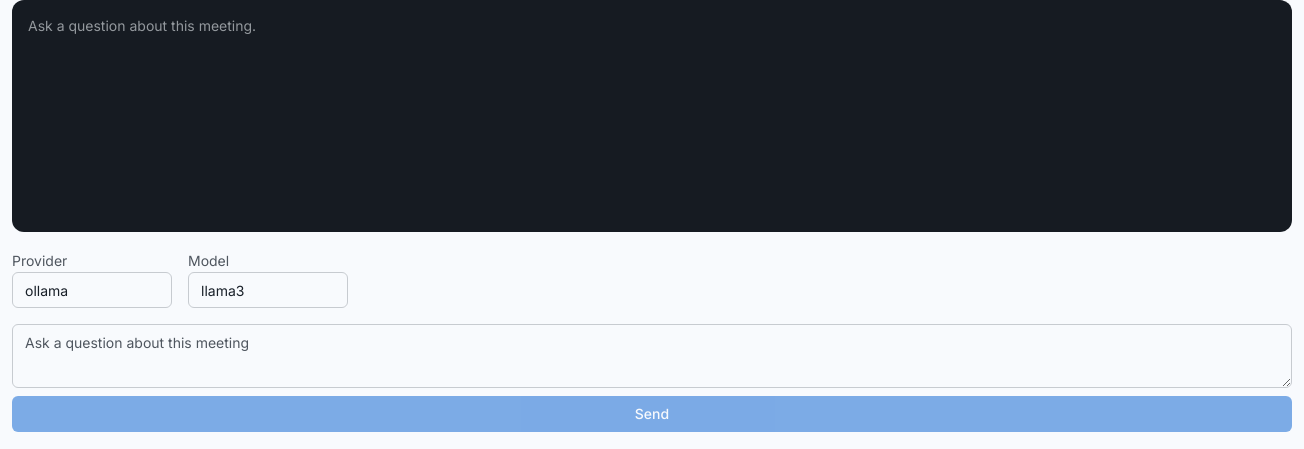
ChatTab › submits a question, appends user and assistant turns, shows citations
Type "What did we decide?" into the text box labelled "Ask a question about this meeting" at [652, 356], box [12,324,1292,388]
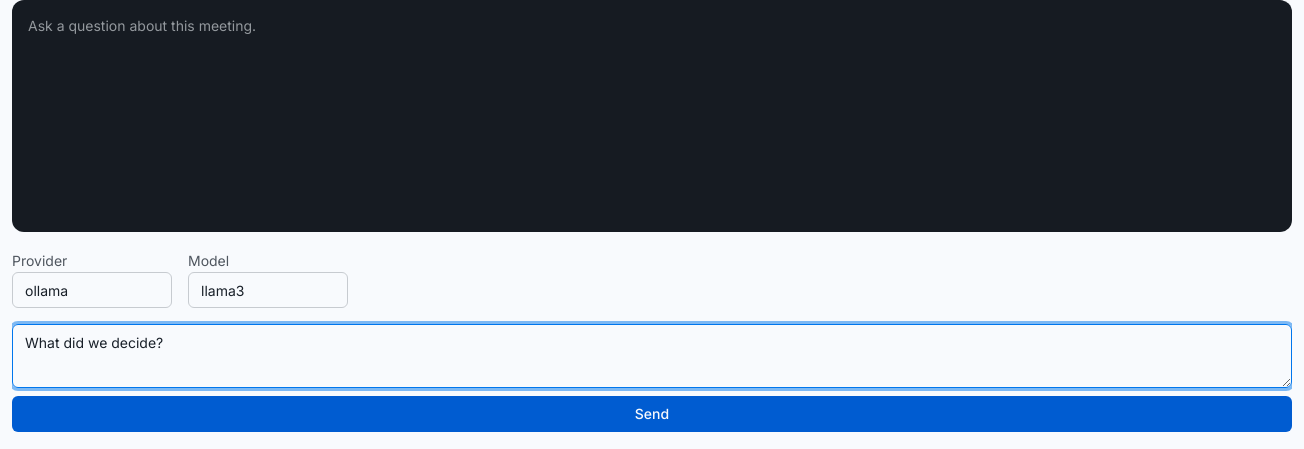
Click the button "Send" at [652, 414], box [12,396,1292,432]
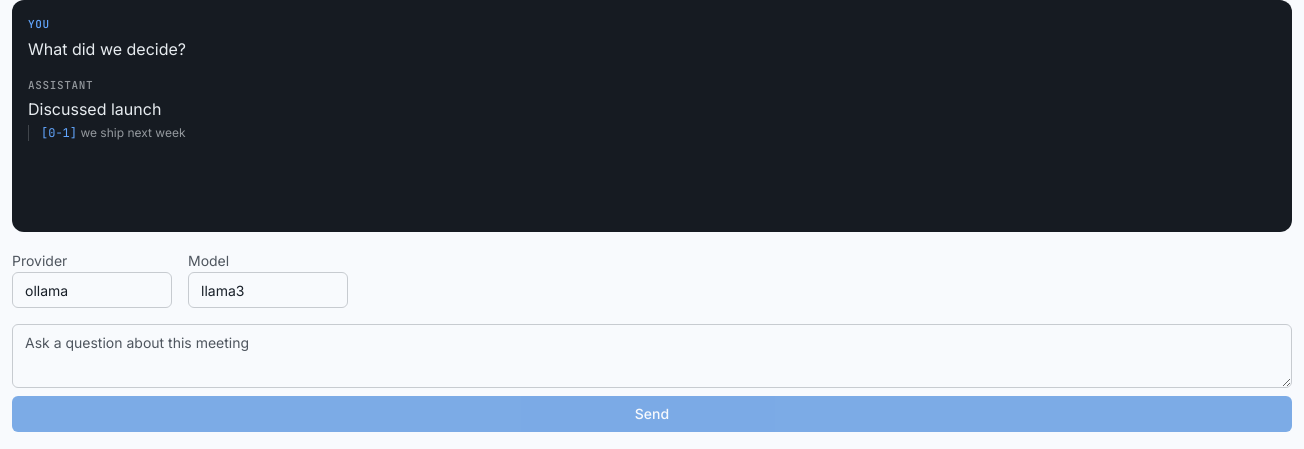
Expected: the text "What did we decide?" is shown, [28,38,186,58]
Expected: the text "Discussed launch" is shown, [28,99,161,119]
Expected: the list item "we ship next week" is shown, [80,125,186,140]
